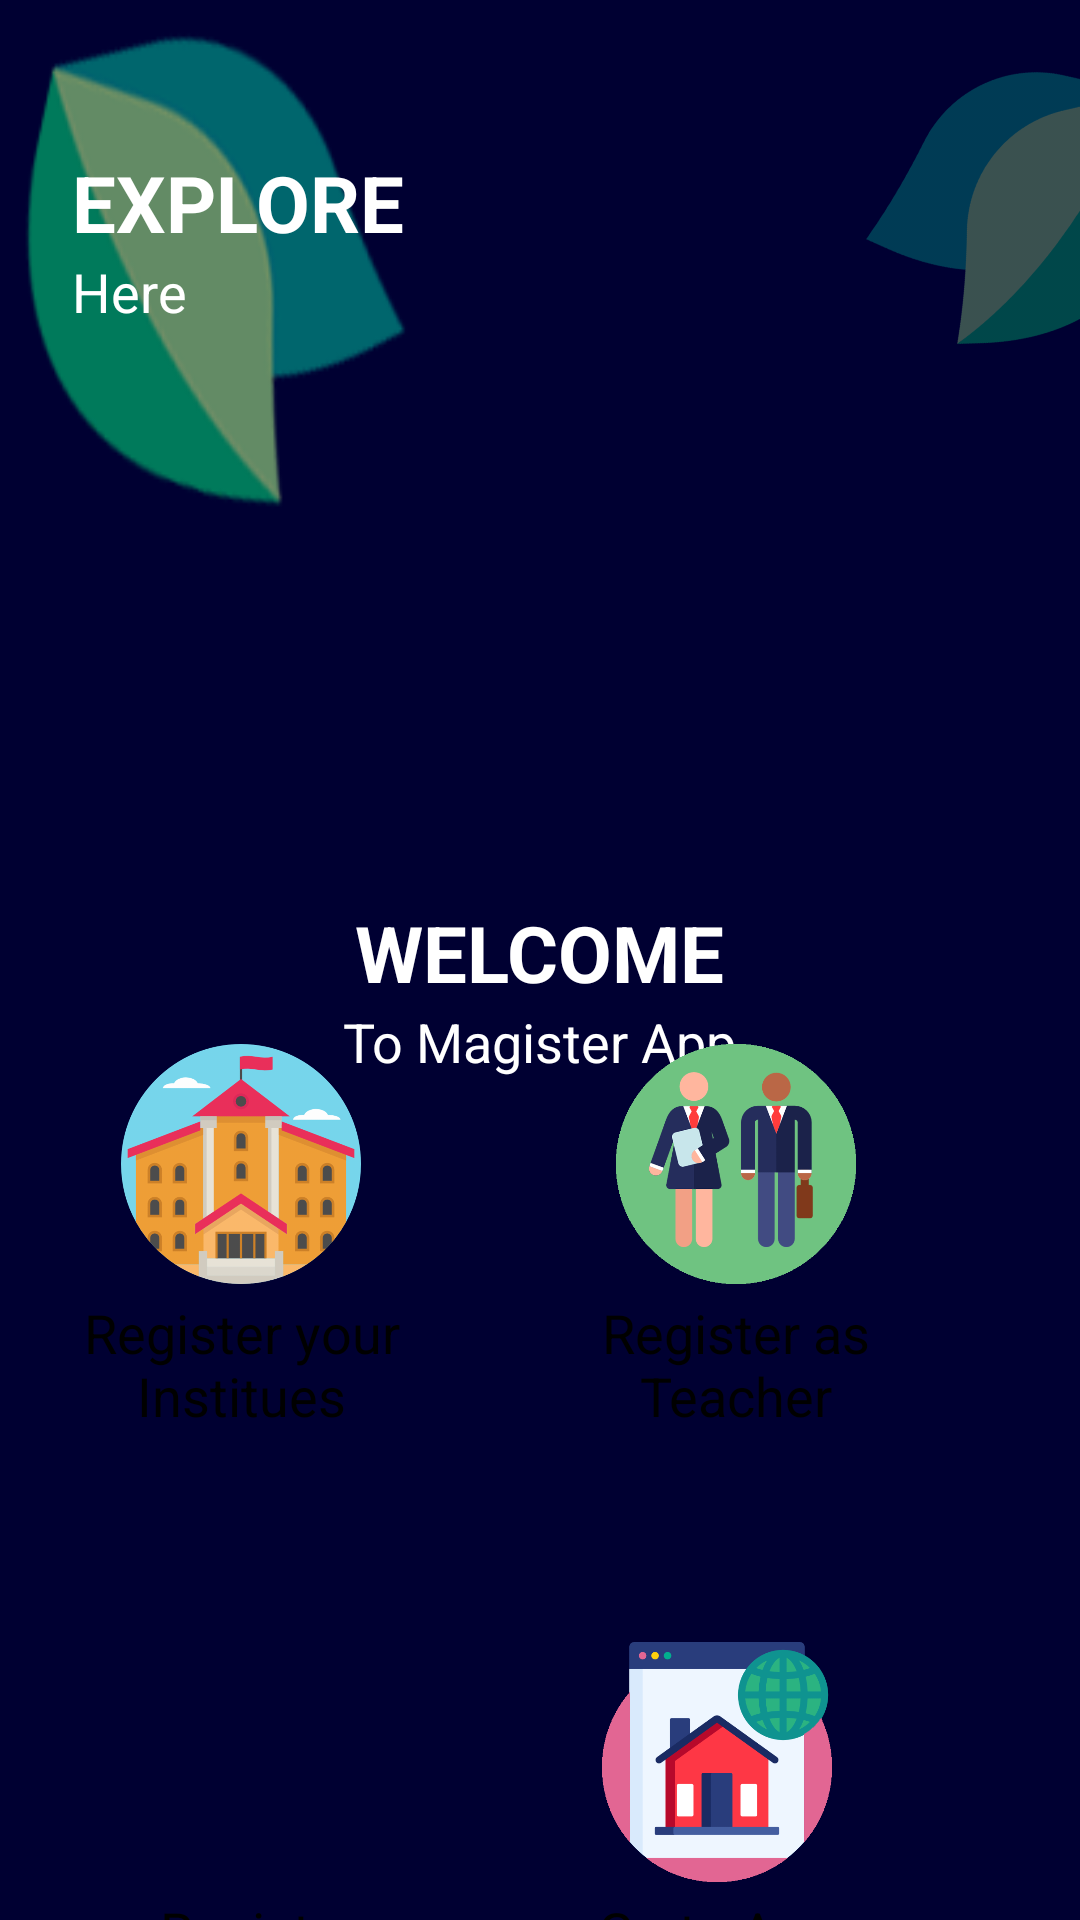

Where icons sit on this 1080px x 1920px app screen, as (left=x1, top=y1, right=x2, bottom=y2):
homepage: (left=602, top=1642, right=832, bottom=1882)
school: (left=121, top=1044, right=361, bottom=1284)
